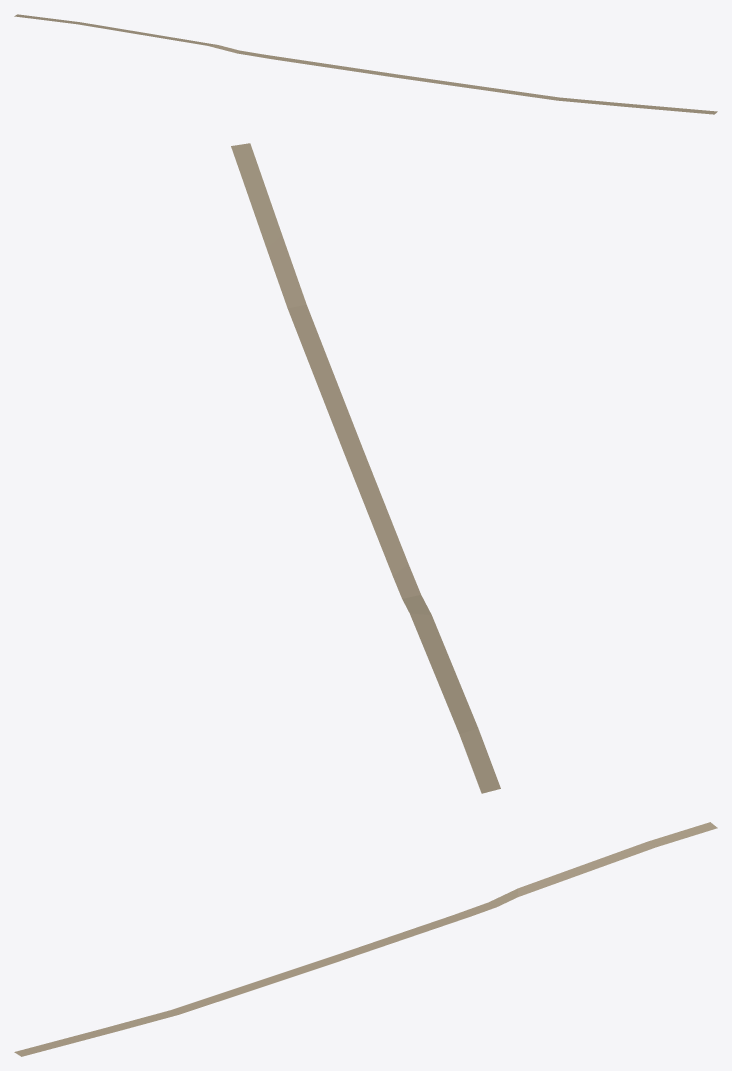
File: farm_-37_-31_track.glb
The picture shows the model from 3 angles, top to bottom: view 1: azimuth 30°, elevation 25°; view 2: azimuth 150°, elevation 25°; view 3: azimuth 270°, elevation 25°; orthographic projection. The views are drawn at different scales.
Visible parts, largest first — view 1: geometry_0; view 2: geometry_0; view 3: geometry_0.
Boxes of the visible parts, x1=… form: geometry_0: x1=14, y1=14, x2=717, y2=114; geometry_0: x1=231, y1=143, x2=500, y2=793; geometry_0: x1=14, y1=822, x2=717, y2=1056.
Bounding box in the file's own units: 161 × 5.48 × 194.
